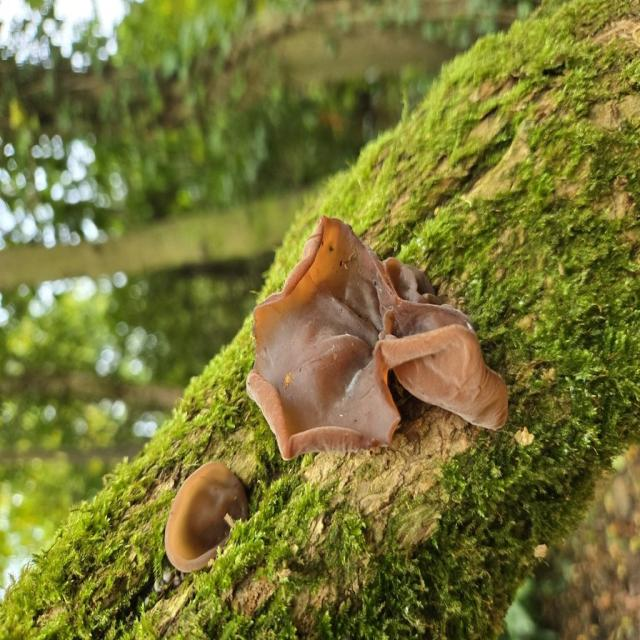Fase Muda: (159, 454, 255, 577)
Matang: (242, 213, 510, 467)
